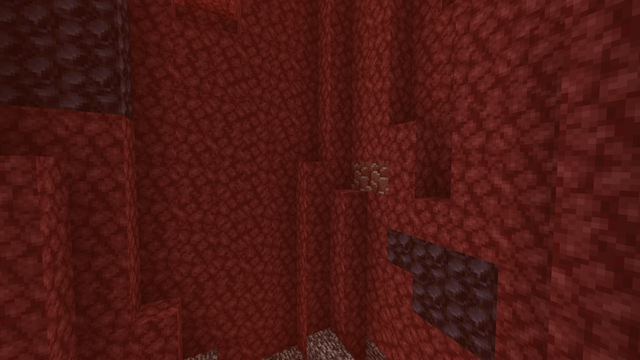debris: (349, 158, 389, 195)
